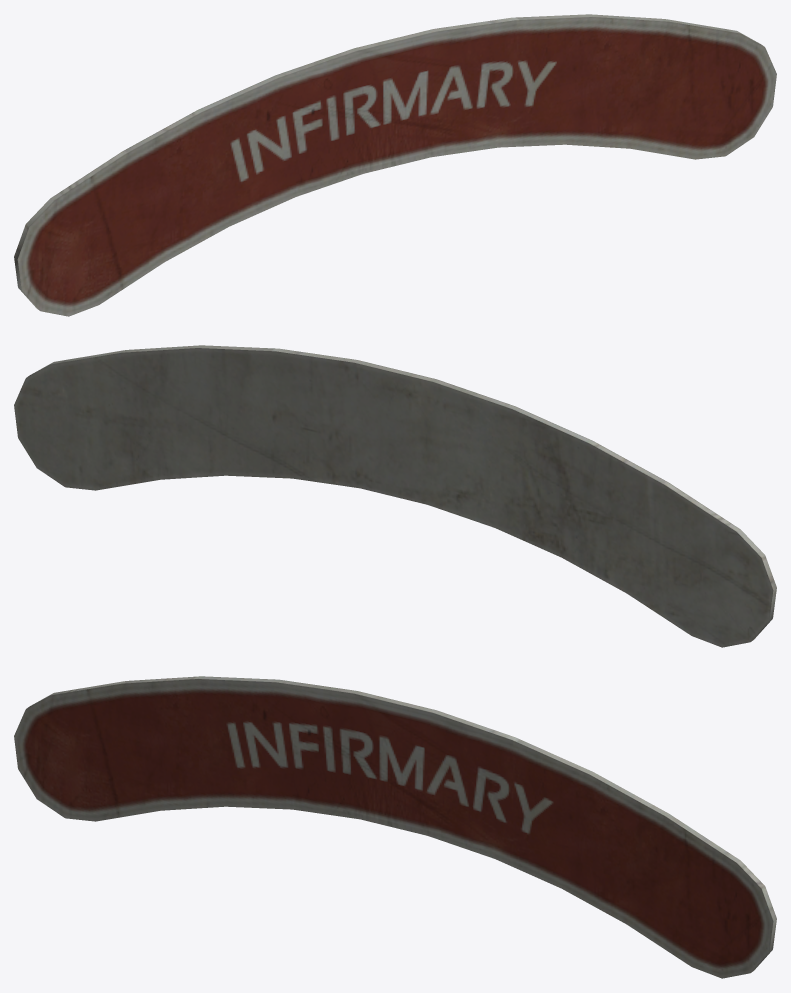
Rendered from tau_inside_infirmary.dae.
3 views of the same model, one above another, from view 1: azimuth 30°, elevation 25°; view 2: azimuth 150°, elevation 25°; view 3: azimuth 330°, elevation 25° (orthographic).
Parts seen in each view (by area): view 1: Geometry_mesh026Node4; view 2: Geometry_mesh026Node4; view 3: Geometry_mesh026Node4.
Boxes of the visible parts, bbox=[...] form: Geometry_mesh026Node4: bbox=[14, 14, 776, 316]; Geometry_mesh026Node4: bbox=[14, 345, 776, 647]; Geometry_mesh026Node4: bbox=[14, 676, 776, 978].
Bounding box in the file's own units: 1.17 × 0.2881 × 0.00977.
